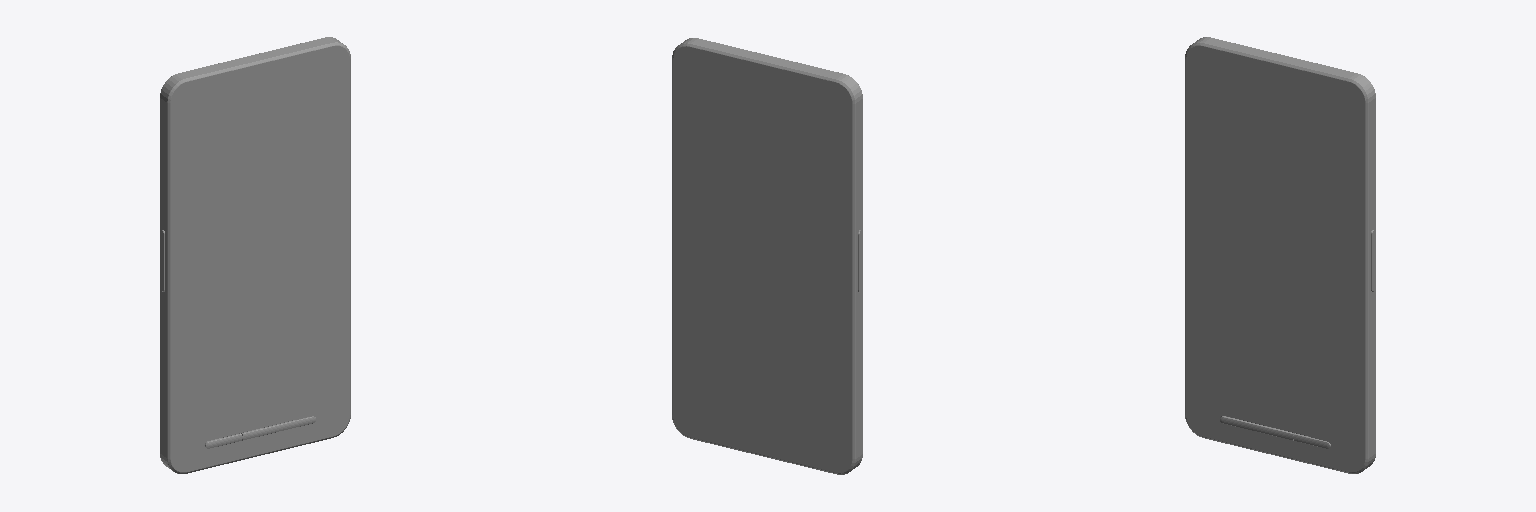
The model's file is t2tothree.obj.
The picture shows the model from 3 angles: view 1: azimuth 30°, elevation 25°; view 2: azimuth 150°, elevation 25°; view 3: azimuth 330°, elevation 25°; orthographic projection.
Parts seen in each view (by area): view 1: Plane.000_Plane.010; view 2: Plane.000_Plane.010; view 3: Plane.000_Plane.010.
Boxes of the visible parts, x1=… form: Plane.000_Plane.010: x1=160, y1=37, x2=350, y2=473; Plane.000_Plane.010: x1=672, y1=38, x2=862, y2=474; Plane.000_Plane.010: x1=1185, y1=37, x2=1375, y2=473.
Size of the model in its own units: 9.92 by 20.08 by 0.9775.